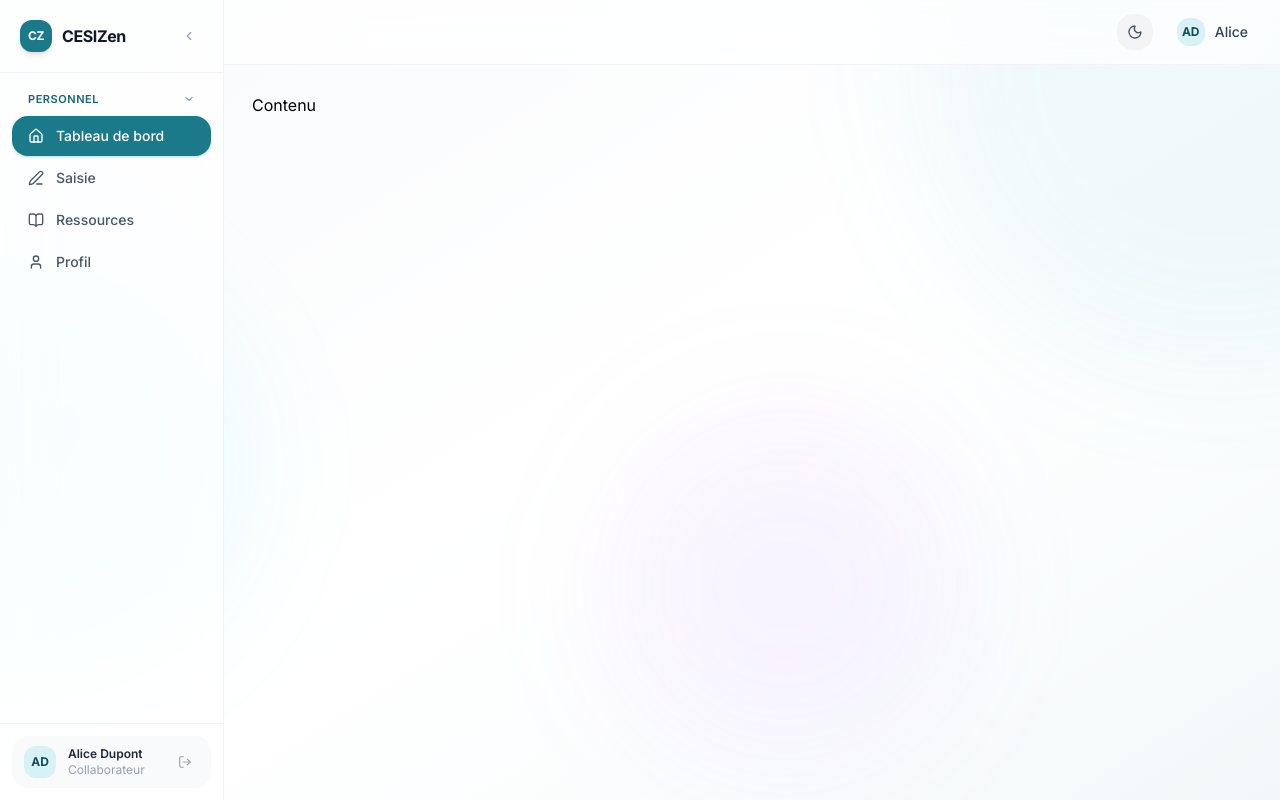
Test case: Layout — Sidebar collapse › passe à "Développer la sidebar" après un clic
This screenshot has width=1280, height=800.
Click the button named "réduire la sidebar": coordinates (189, 36) [175,22,203,50]
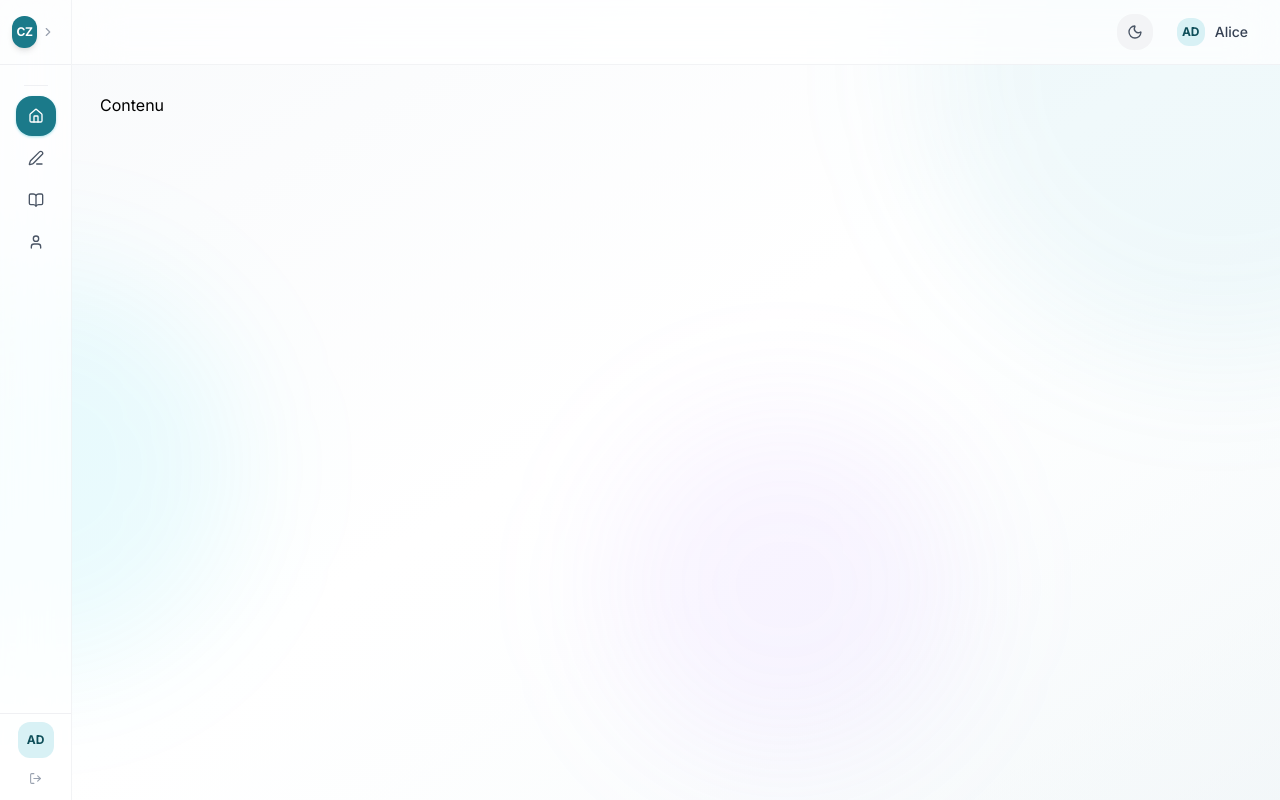
Check: the button named "développer la sidebar" is shown, box [37,18,59,46]
